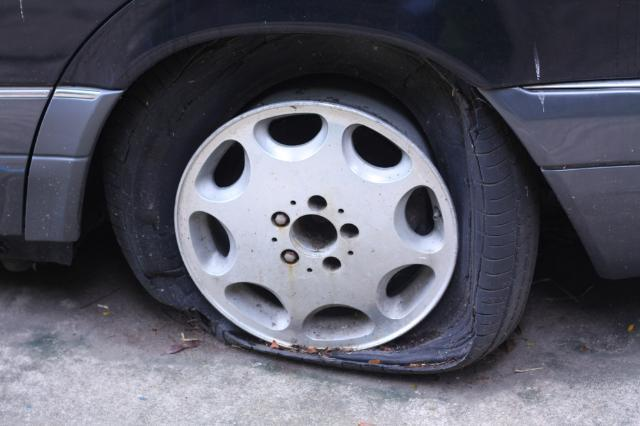tire flat: (104, 34, 541, 378)
